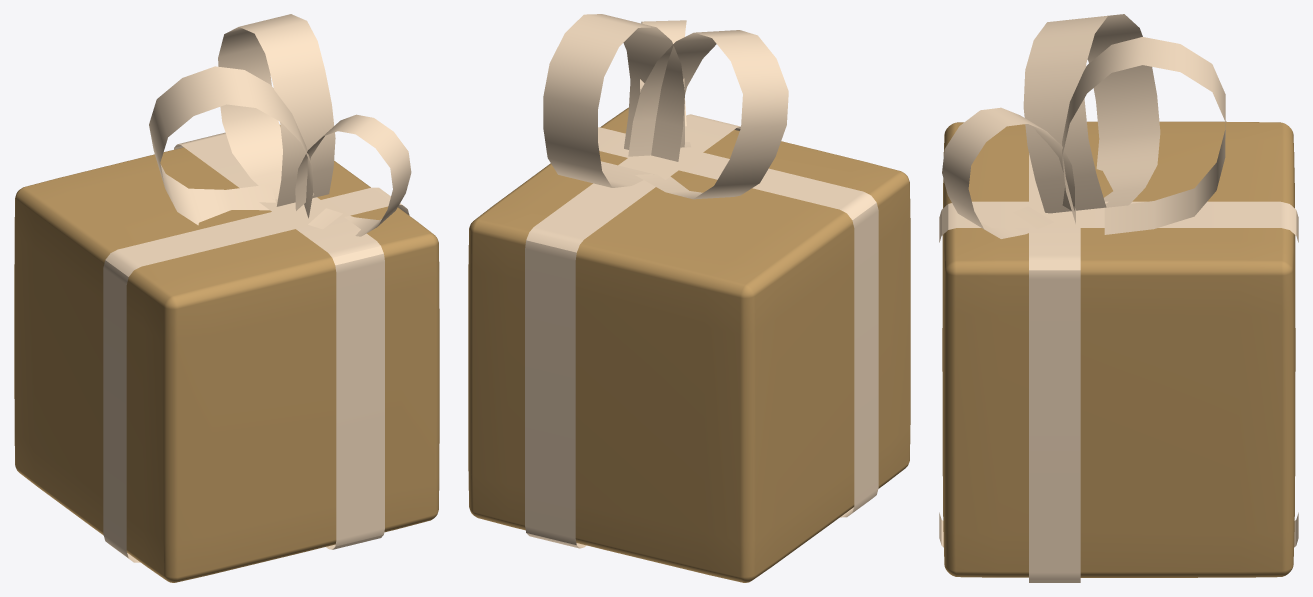
File: regalo2.fbx
3 renders of one model, left to right at view 1: azimuth 30°, elevation 25°; view 2: azimuth 150°, elevation 25°; view 3: azimuth 270°, elevation 25°, orthographic. The views are drawn at different scales.
Visible parts, largest first — view 1: pCube5, pCube6, pPlane22; view 2: pCube5, pCube6, pPlane22; view 3: pCube5, pPlane22, pCube6.
Part boxes in pixels (x1,y1,x2,y2): pCube5: (14, 125, 439, 582); pCube6: (103, 132, 409, 562); pPlane22: (149, 14, 411, 236); pCube5: (468, 107, 910, 582); pCube6: (525, 114, 878, 548); pPlane22: (543, 14, 788, 199); pCube5: (942, 121, 1295, 577); pPlane22: (942, 14, 1225, 238); pCube6: (939, 153, 1298, 582).
Bounding box in the file's own units: 3.56 × 5.43 × 3.56.
